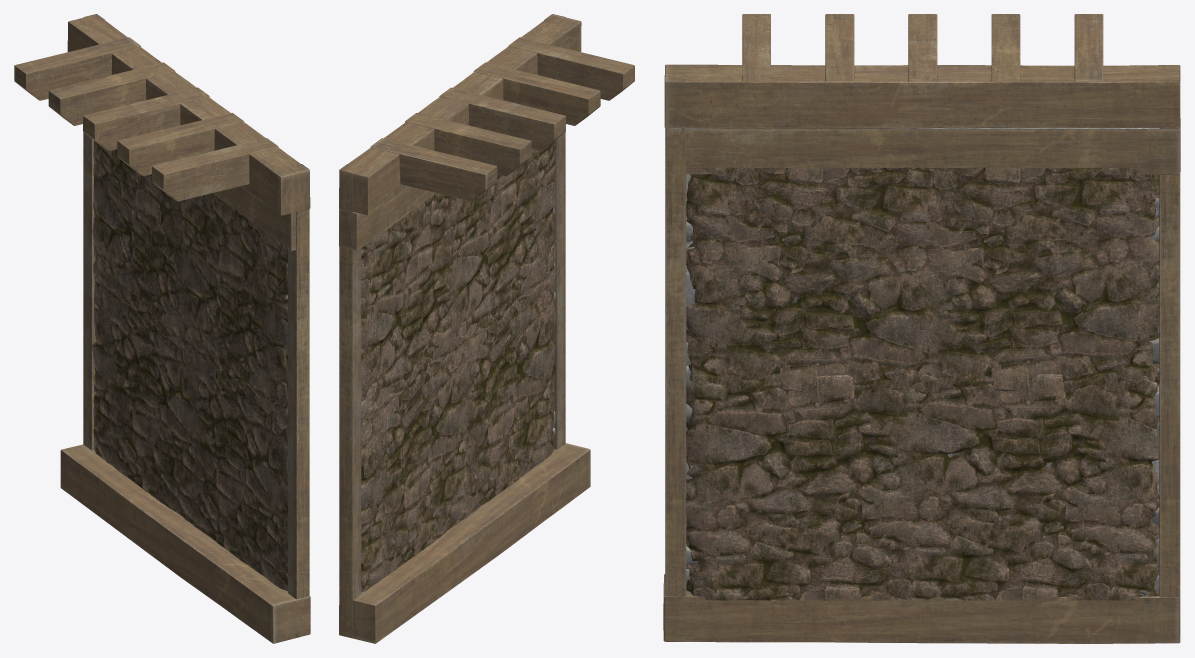
Rendered from SM_Wall-Stone-A1.fbx.
3 renders of one model, left to right at view 1: azimuth 30°, elevation 25°; view 2: azimuth 150°, elevation 25°; view 3: azimuth 270°, elevation 25°, orthographic. The views are drawn at different scales.
Visible parts, largest first — view 1: SM_Wall-Stone-A1_LOD0; view 2: SM_Wall-Stone-A1_LOD0; view 3: SM_Wall-Stone-A1_LOD0.
Part boxes in pixels (<box>): SM_Wall-Stone-A1_LOD0: <box>14,14,310,643</box>; SM_Wall-Stone-A1_LOD0: <box>339,14,634,643</box>; SM_Wall-Stone-A1_LOD0: <box>663,14,1180,643</box>.
Size of the model in its own units: 79.55 by 251 by 301.
2 materials, 2 textured.
